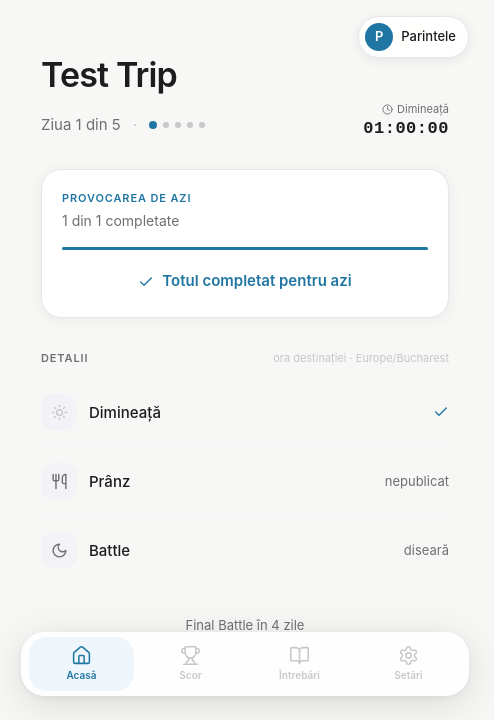
R2 regression: Home progress re-scopes to the active profile without a remount › switching from Parent (answered) to Child (not answered) updates the morning row without navigating away
Expected: the text "Parintele" is shown, [401,27,456,47]
Expected: the text "Descoperă" is not shown
Click the button with aria-label "profil": (414, 37) [358,16,469,58]
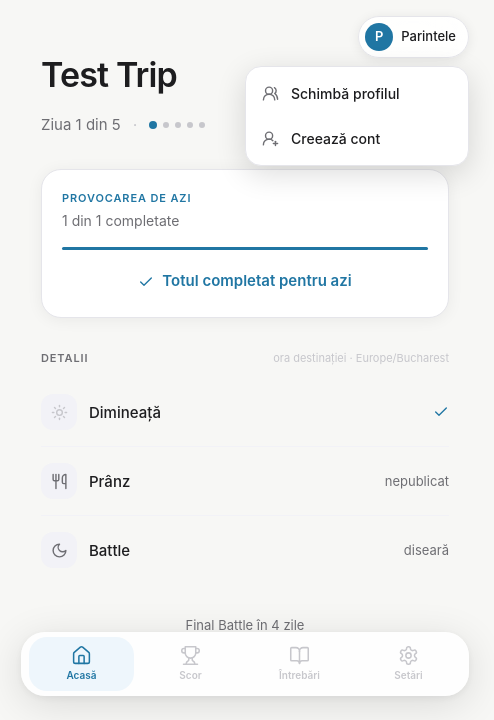
Click the button "Schimbă profilul": (357, 94) [246,71,468,116]
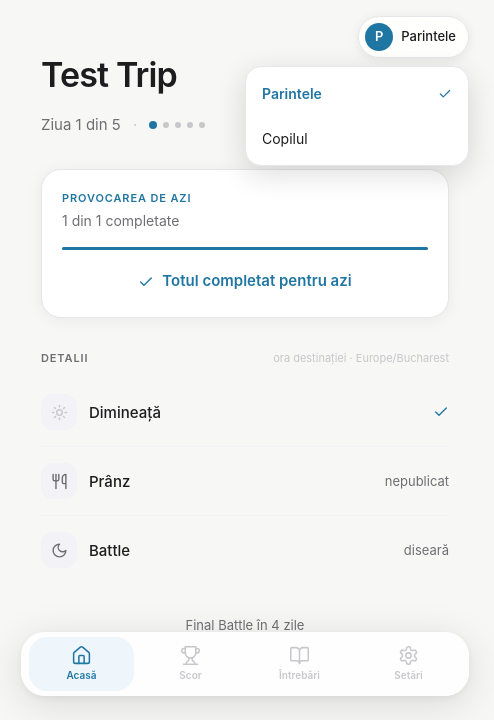
Click the button "Copilul": (357, 138) [246,116,468,161]
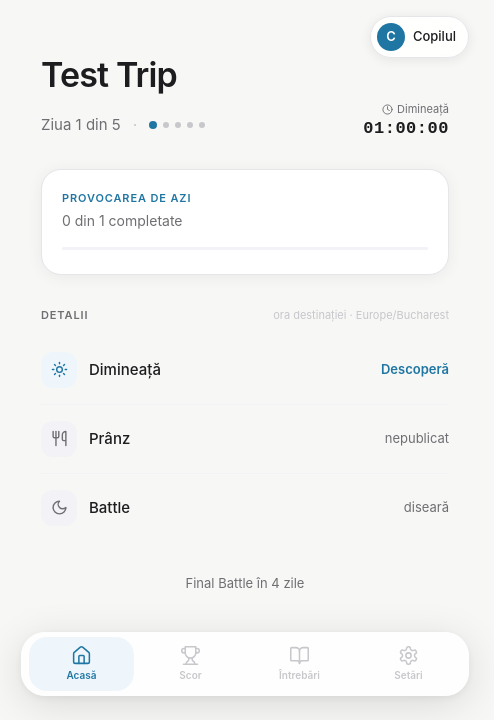
Expected: the text "Copilul" is shown, [413,27,456,47]
Expected: the link "Descoperă" is shown, [381,360,449,380]
